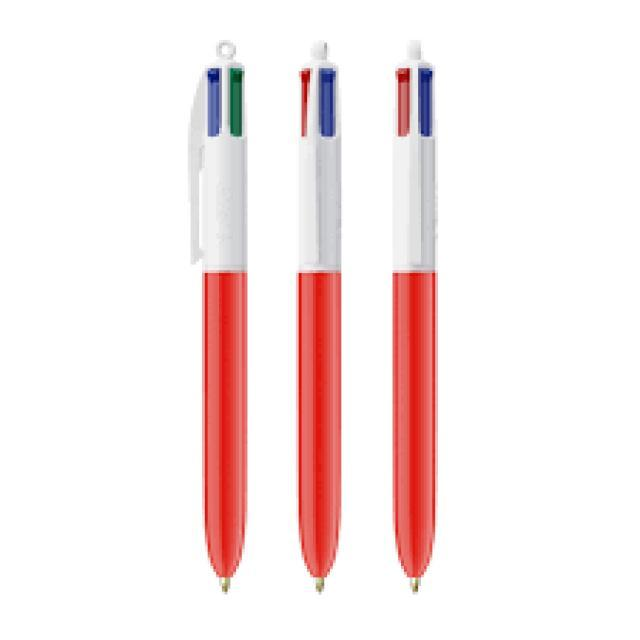pen: (188, 41, 248, 592), (188, 41, 248, 592), (392, 42, 437, 590), (298, 41, 342, 592), (298, 42, 342, 590), (394, 42, 436, 592)
